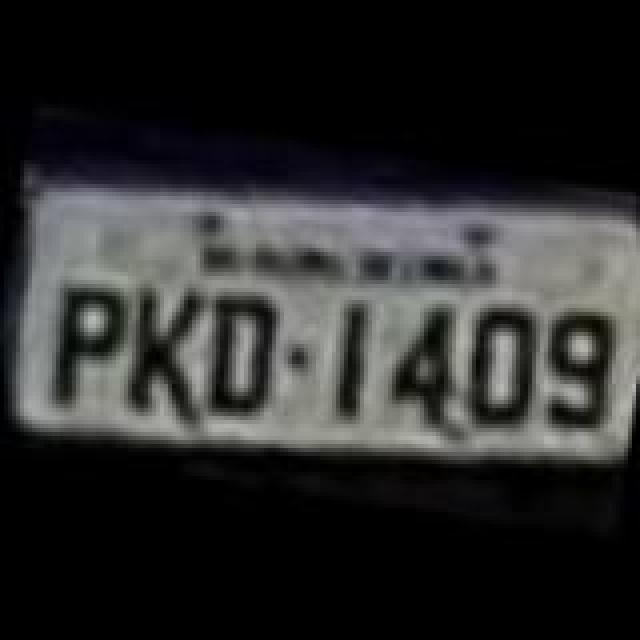1: (312, 292, 388, 428)
4: (372, 290, 480, 434)
9: (518, 300, 622, 444)
D: (194, 278, 290, 426)
K: (104, 272, 216, 428)
O: (450, 296, 546, 440)
P: (38, 274, 138, 414)
